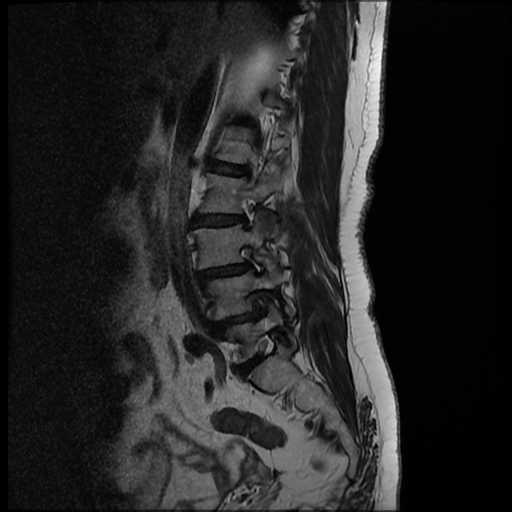RFS0: (227, 191, 264, 237)
RFS1: (230, 237, 273, 282)
